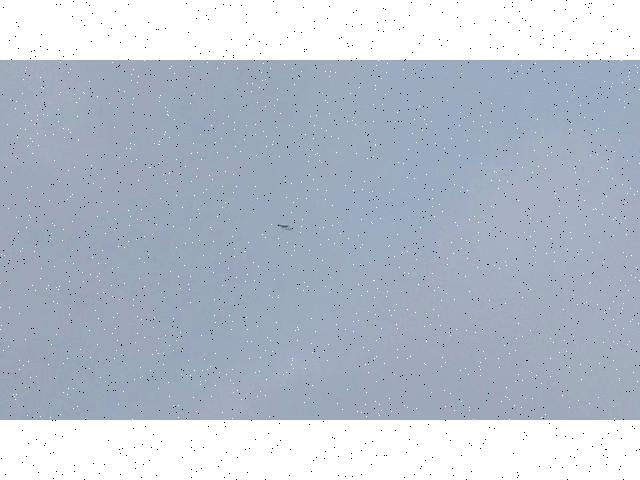Anti-Drone: (277, 223, 295, 233)
